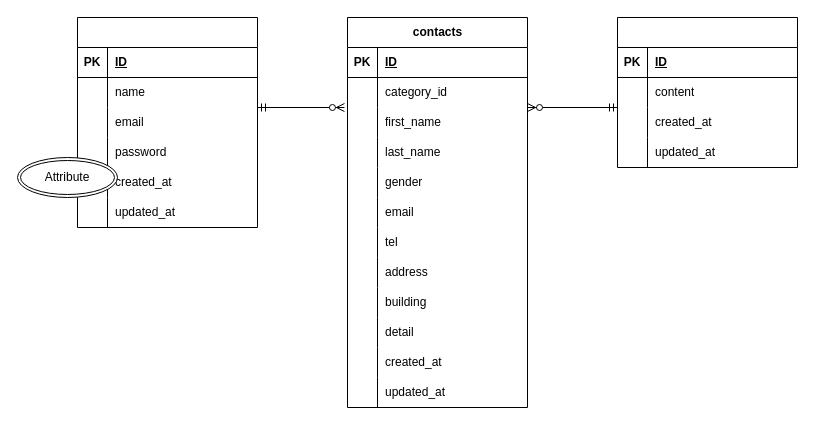
This 815x425 diagram has some shape labels left out. Each missing label, with the box of its shape:
categories: (616, 16, 798, 168)
users: (76, 16, 258, 228)
